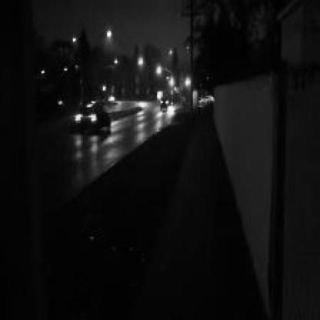other: (128, 51, 150, 143)
